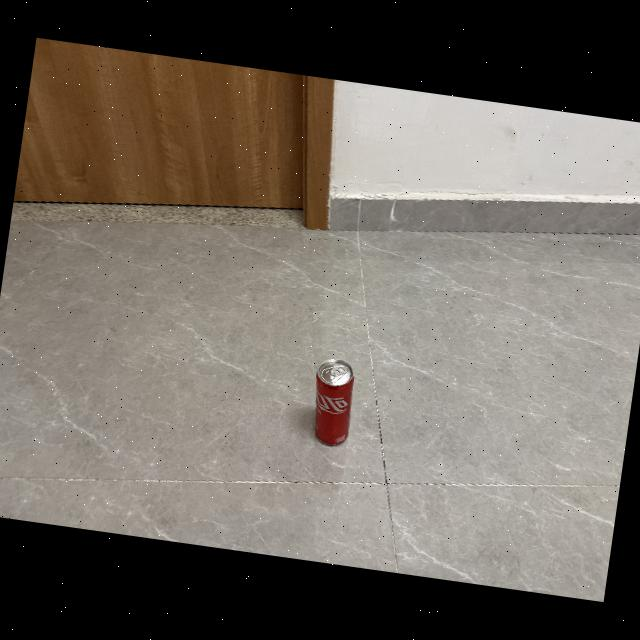Cola: (304, 354, 362, 454)
